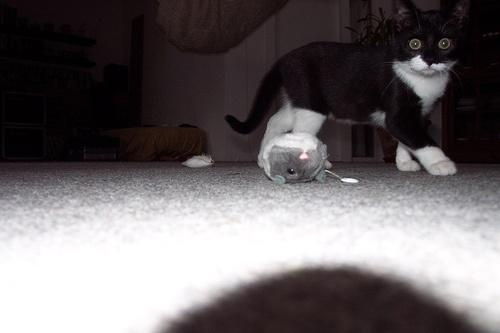cat: (222, 1, 475, 178)
